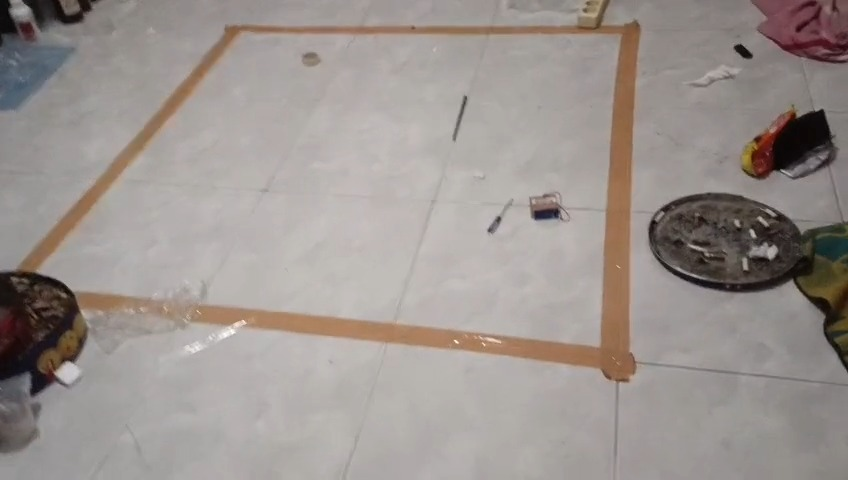floor marking: (199, 22, 639, 380), (21, 26, 592, 268), (78, 293, 158, 309)
